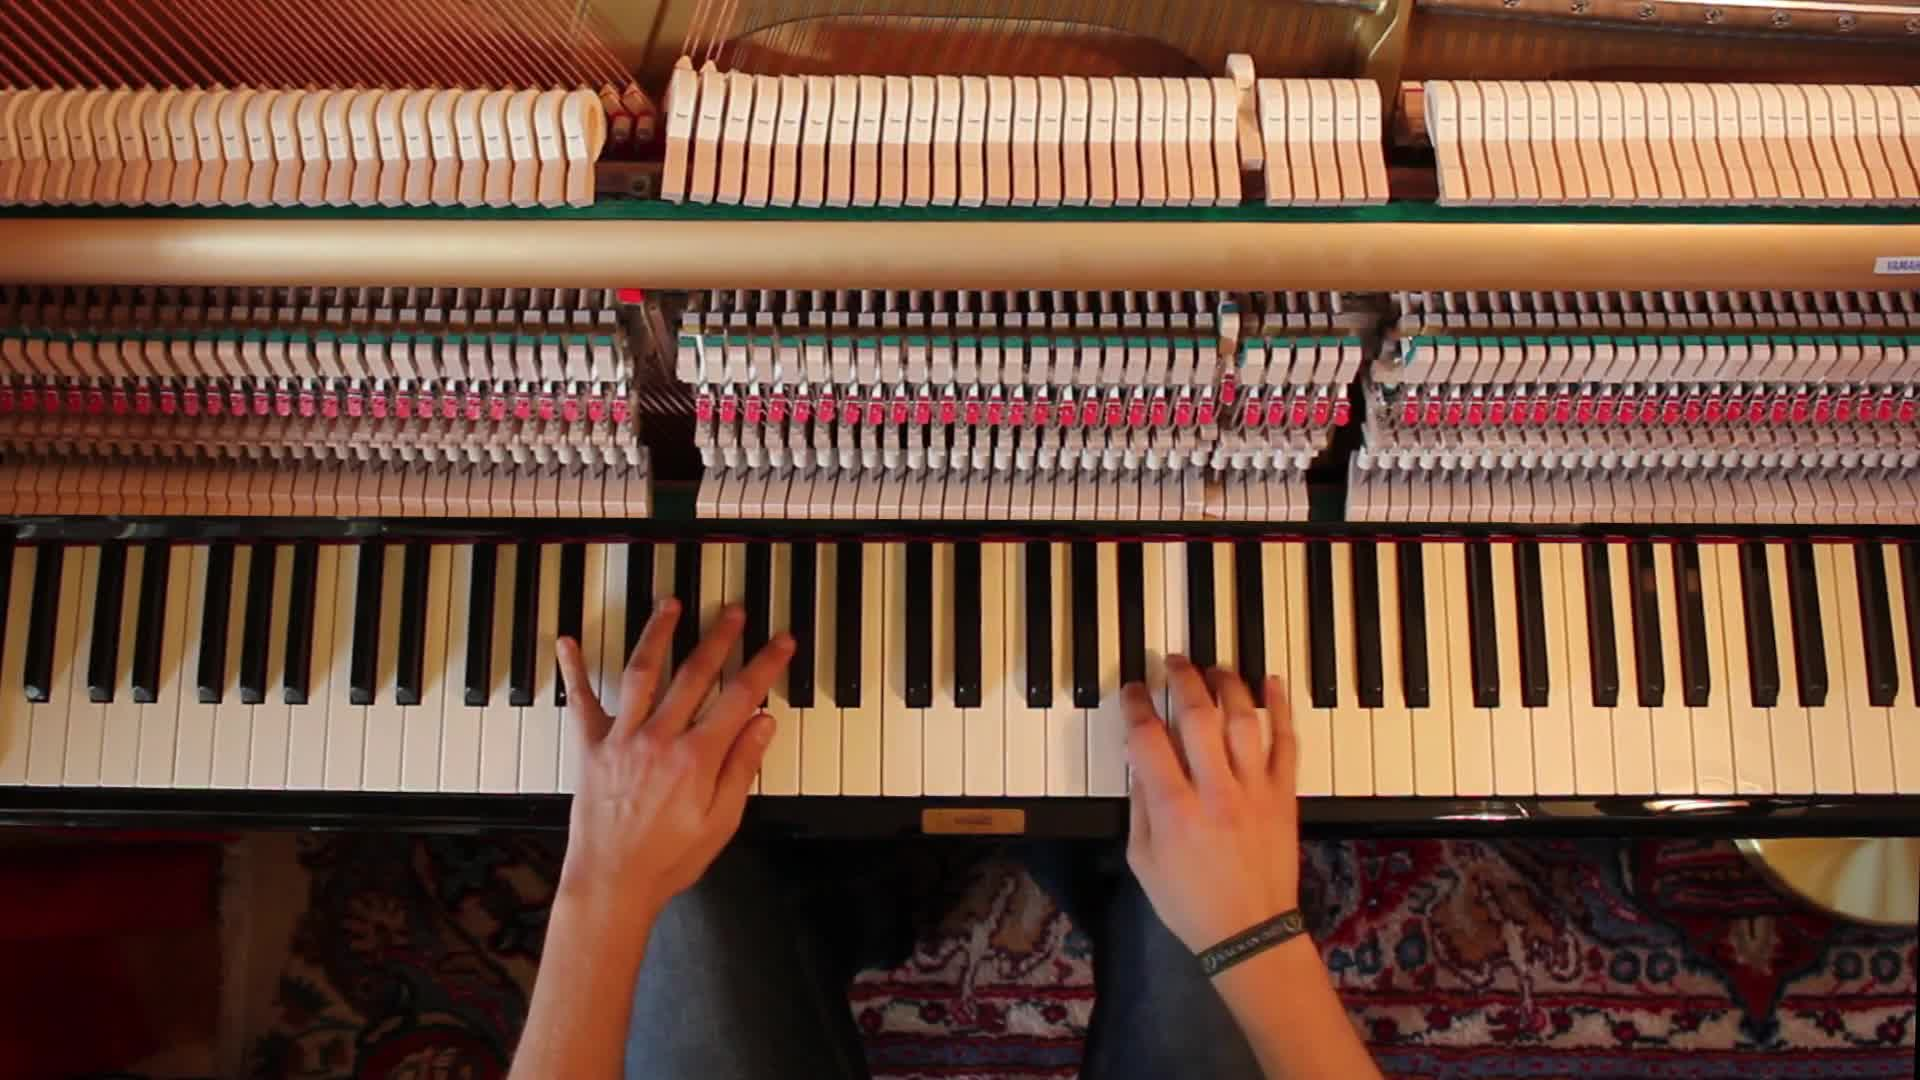left: (545, 595, 799, 884)
right: (1113, 651, 1304, 943)
